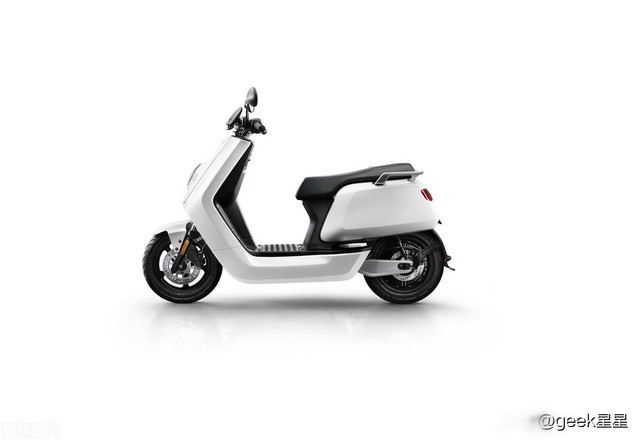MNV: (142, 88, 451, 304)
